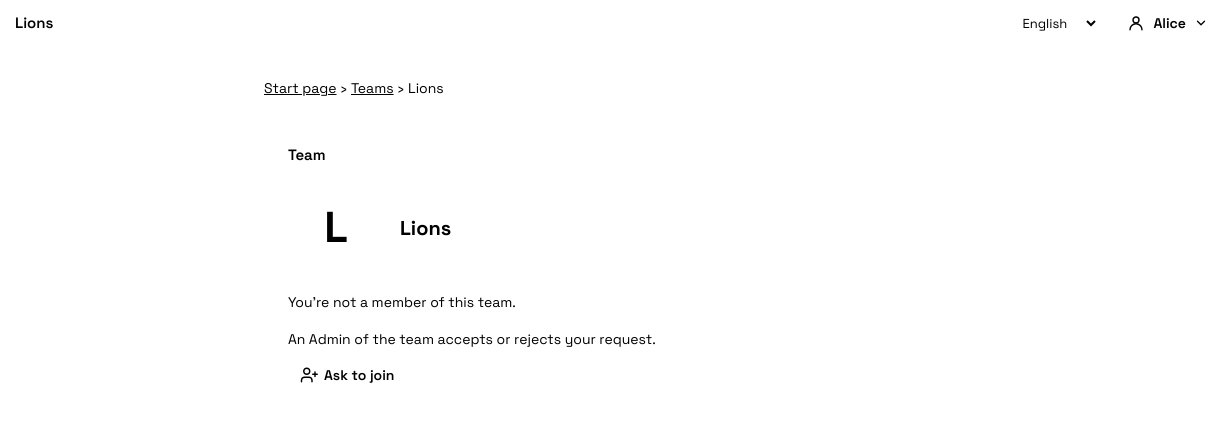
Test: team page › says why a request to join failed
The image size is (1223, 441).
Click the button "Ask to join". click: (347, 375)
box: [288,366,406,384]
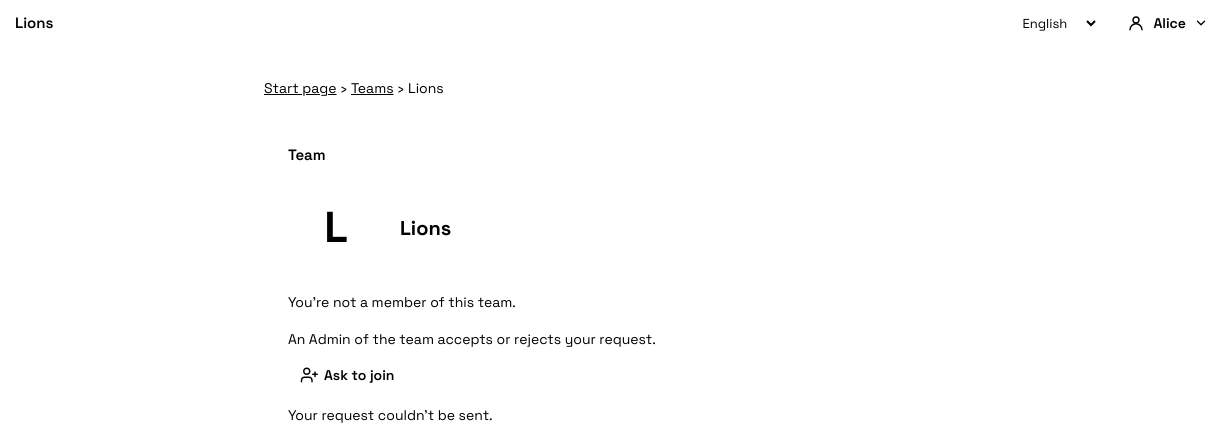
Check: the message reads "Your request couldn't be sent.", box [288,406,493,424]
